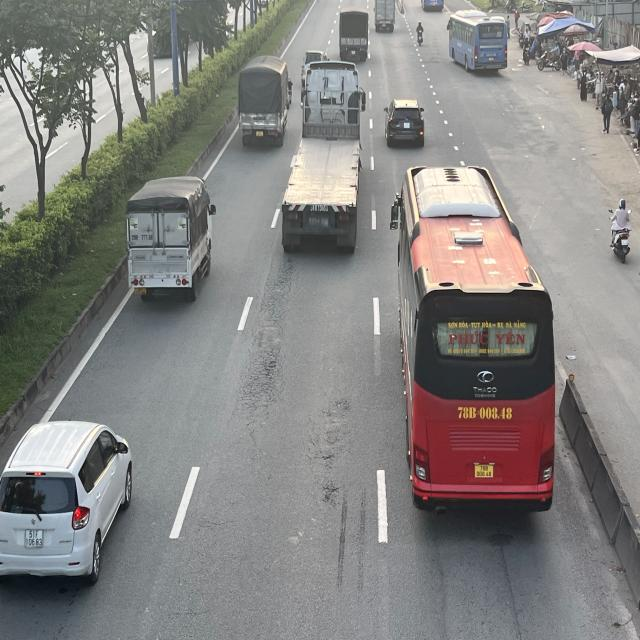car: (2, 417, 136, 580), (385, 100, 428, 148)
coach: (388, 162, 553, 509), (448, 9, 511, 71)
container: (281, 59, 365, 253)
truck: (124, 174, 216, 299), (240, 54, 294, 146), (339, 4, 370, 61), (374, 0, 396, 32)
